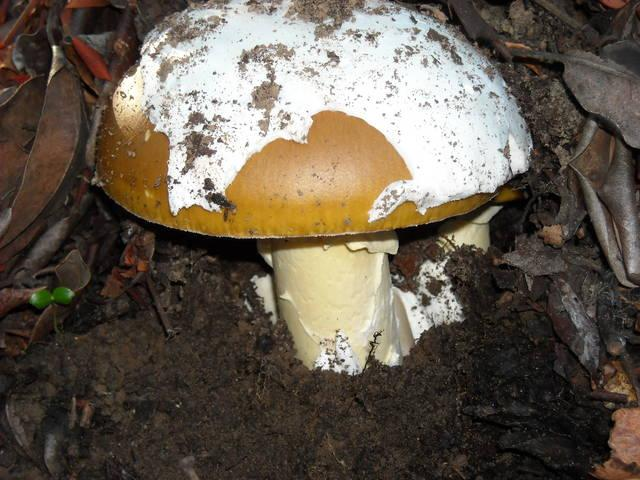edible_mushroom: (90, 0, 534, 376)
